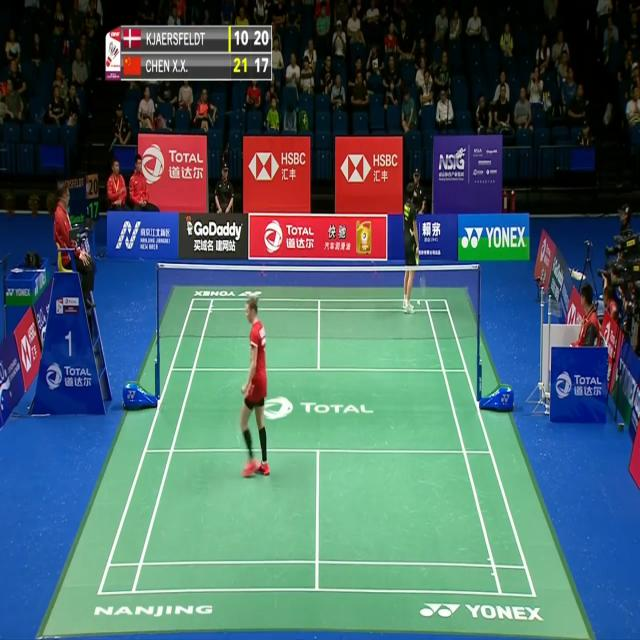Player1: (235, 296, 272, 480)
Player2: (400, 183, 422, 310)
